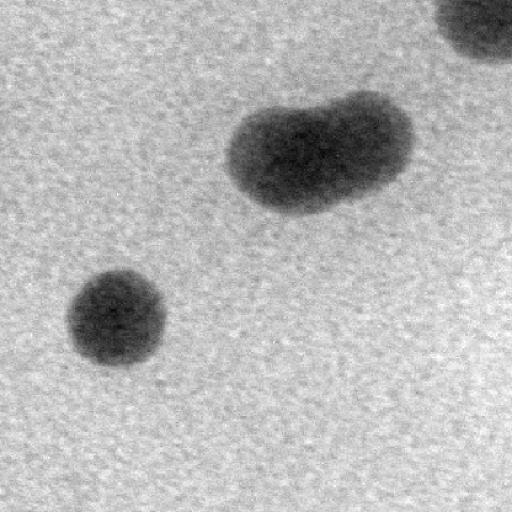Nanoparticles: (222, 105, 324, 215), (323, 91, 418, 207), (67, 268, 166, 367), (430, 1, 512, 64)
